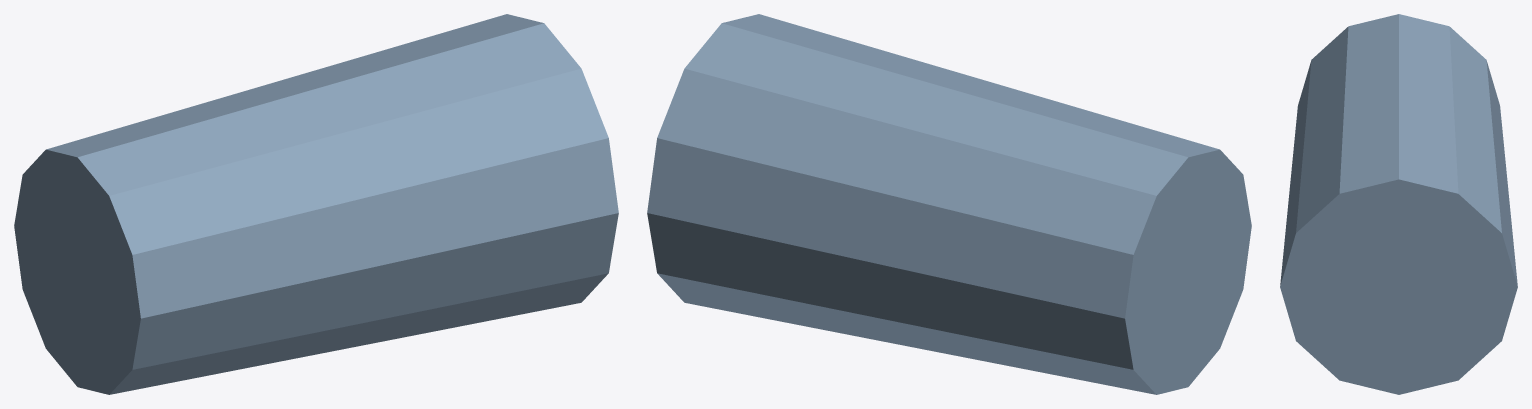
File: bone_3.obj
3 views of the same model, side by side, from view 1: azimuth 30°, elevation 25°; view 2: azimuth 150°, elevation 25°; view 3: azimuth 270°, elevation 25° (orthographic). The views are drawn at different scales.
Parts seen in each view (by area): view 1: bone_3; view 2: bone_3; view 3: bone_3.
Boxes of the visible parts, left/top/right/bottom form: bone_3: left=14, top=14, right=618, bottom=394; bone_3: left=647, top=14, right=1251, bottom=394; bone_3: left=1280, top=14, right=1517, bottom=394.
Size of the model in its own units: 0.0325 by 0.018 by 0.018.
